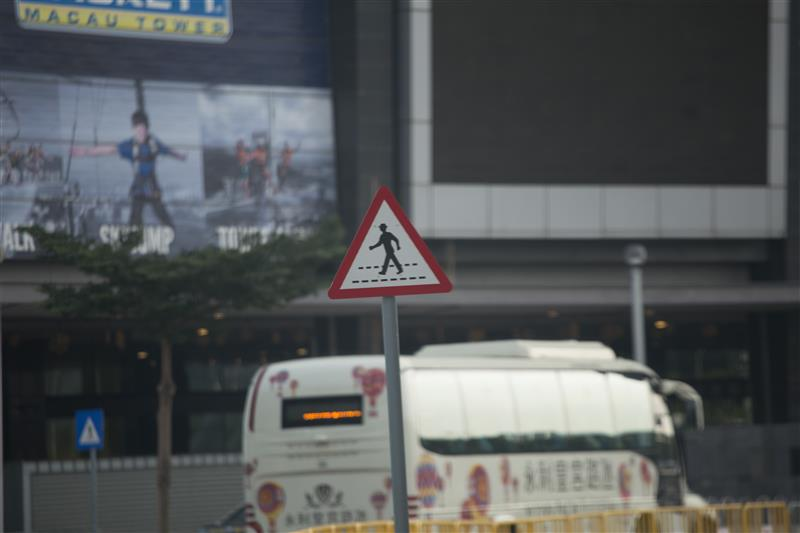pedestrianCrossingR: (325, 184, 450, 298)
